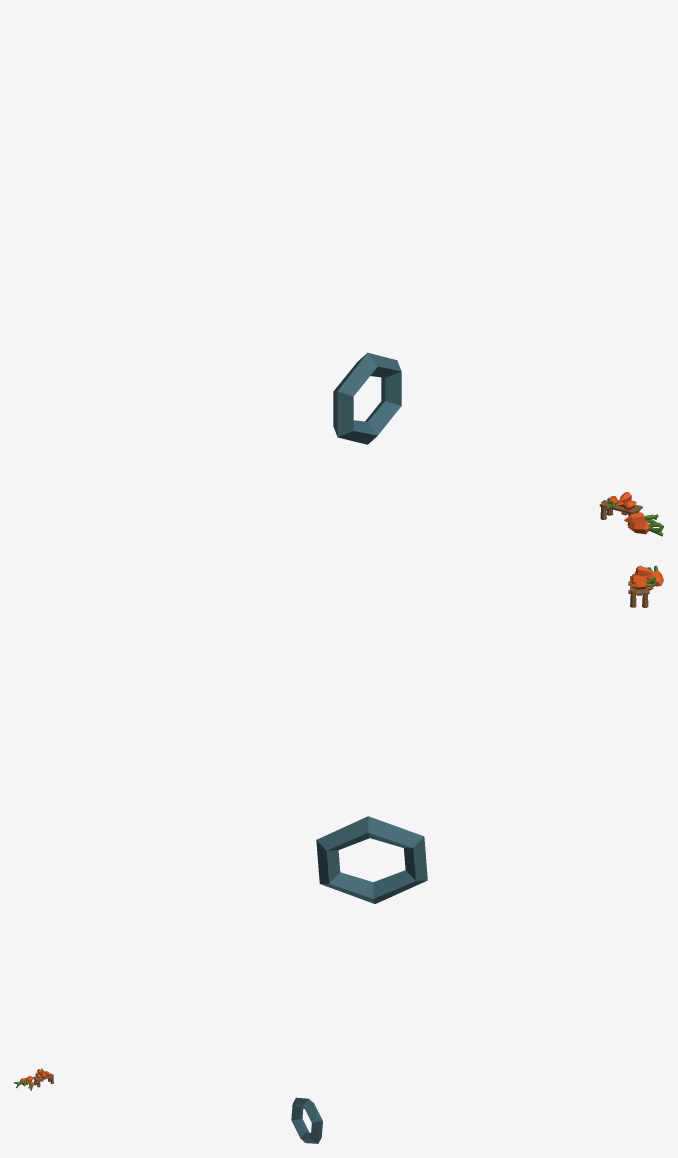
The picture shows the model from 3 angles, top to bottom: view 1: azimuth 30°, elevation 25°; view 2: azimuth 150°, elevation 25°; view 3: azimuth 270°, elevation 25°; orthographic projection. The views are drawn at different scales.
Visible parts, largest first — view 1: Torus063_metal_0; view 2: Torus063_metal_0; view 3: Torus063_metal_0.
Part boxes in pixels (x1,y1,x2,y2): Torus063_metal_0: (333, 352, 401, 444); Torus063_metal_0: (316, 816, 427, 903); Torus063_metal_0: (291, 1097, 322, 1143).
Bounding box in the file's own units: 319 × 627 × 4156.
